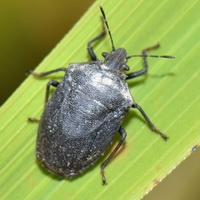insect: (29, 6, 174, 183)
